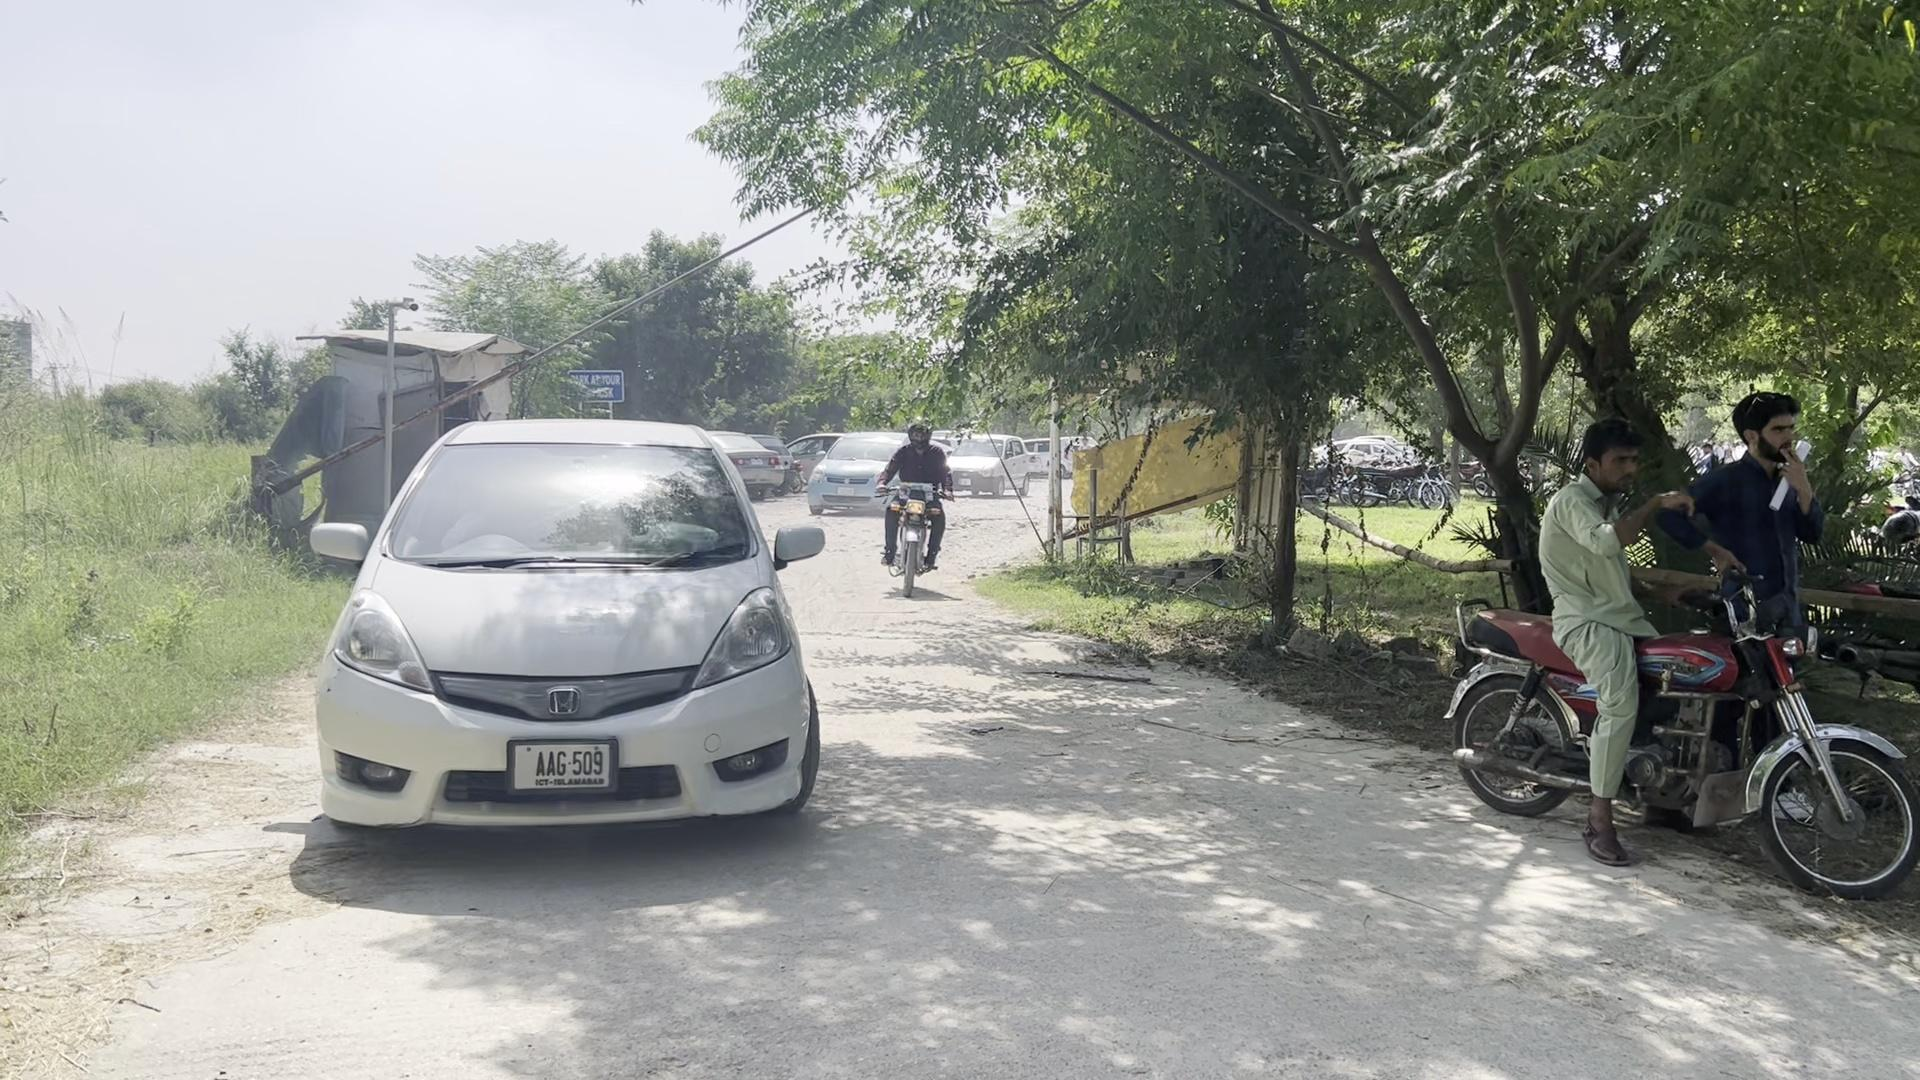windshield: (375, 434, 761, 562)
